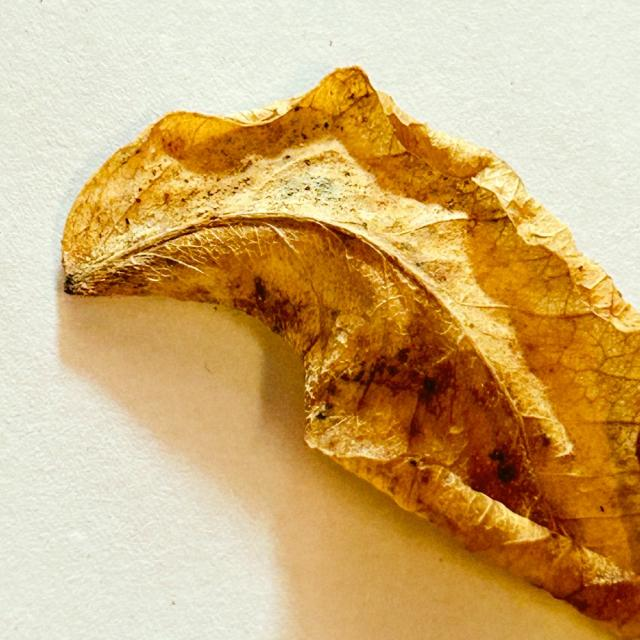DryLeaf_Lemon: (62, 67, 639, 636)
